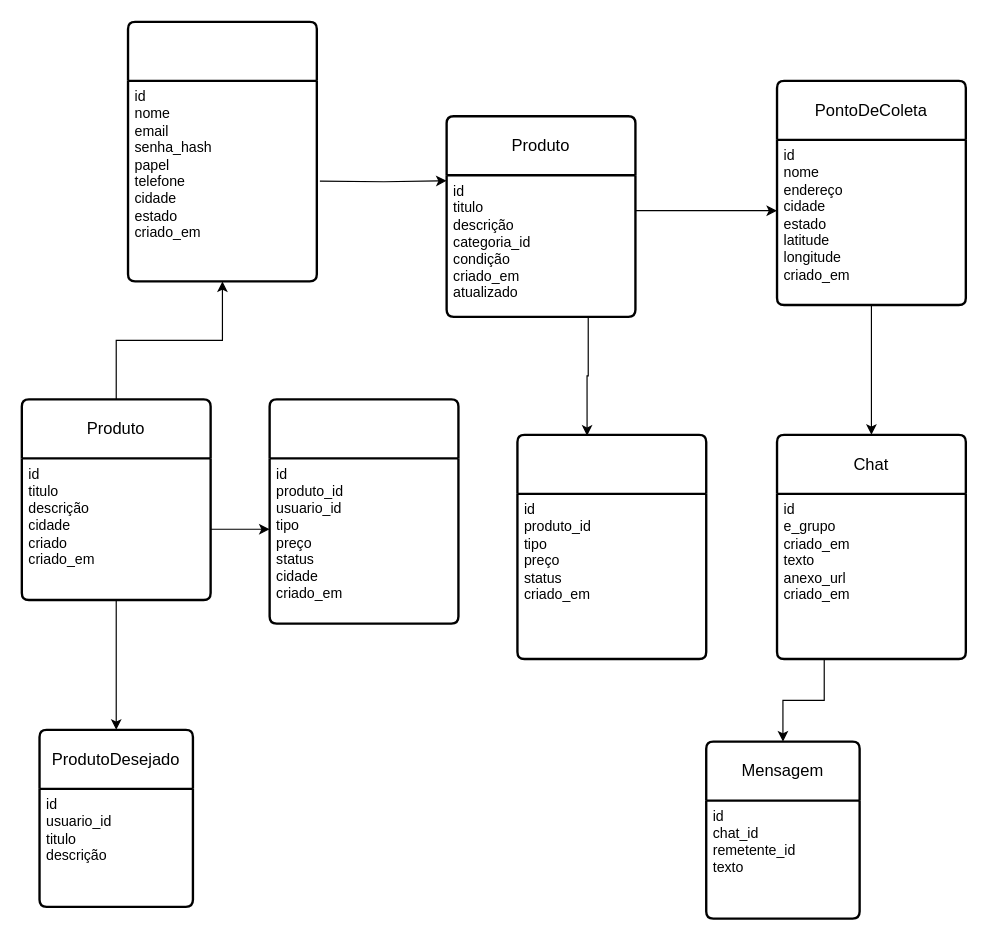
This 986x939 diagram has some shape labels left out. Here are the shapes that lost their labels. From the top down, the box of each, then its label:
(126, 20, 317, 282): Usuário
(268, 398, 459, 624): Anuncio
(516, 433, 707, 660): Imagem
